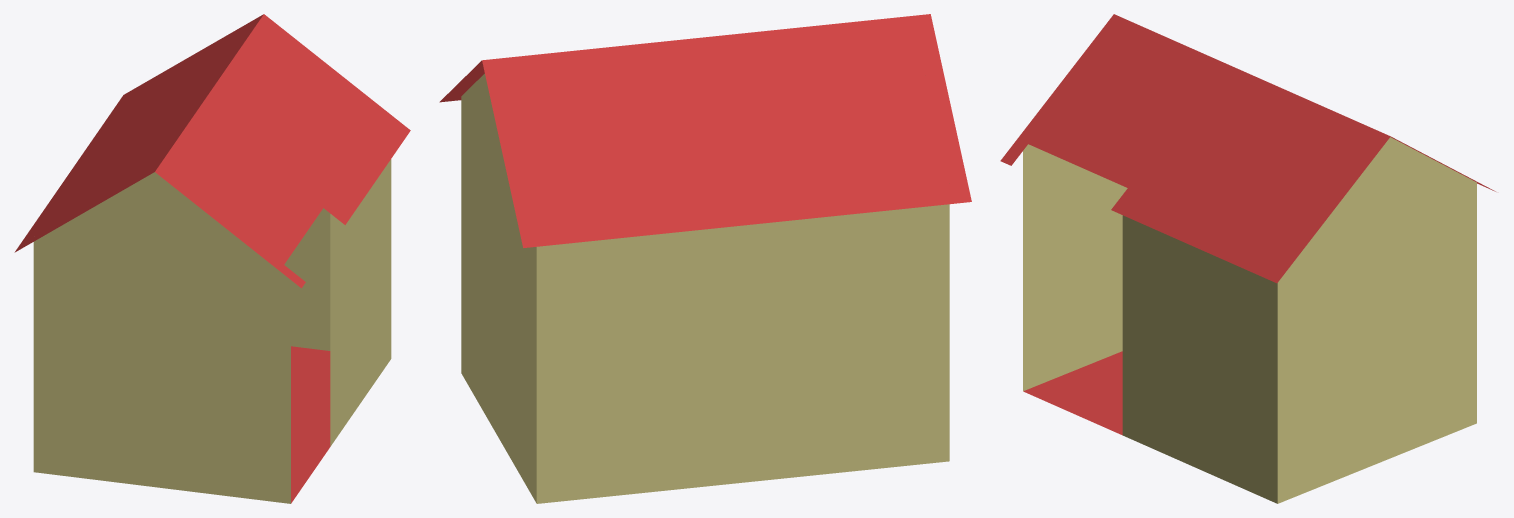
3 views of the same model, side by side, from view 1: azimuth 30°, elevation 25°; view 2: azimuth 150°, elevation 25°; view 3: azimuth 270°, elevation 25° (orthographic). The views are drawn at different scales.
Bounding box in the file's own units: 15.65 × 15.55 × 11.38.
